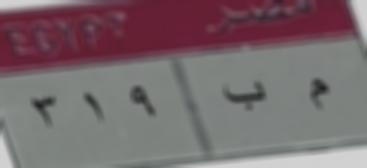1: (78, 86, 108, 132)
3: (28, 90, 64, 132)
9: (127, 82, 158, 128)
baa: (221, 76, 272, 118)
meem: (304, 70, 330, 118)
